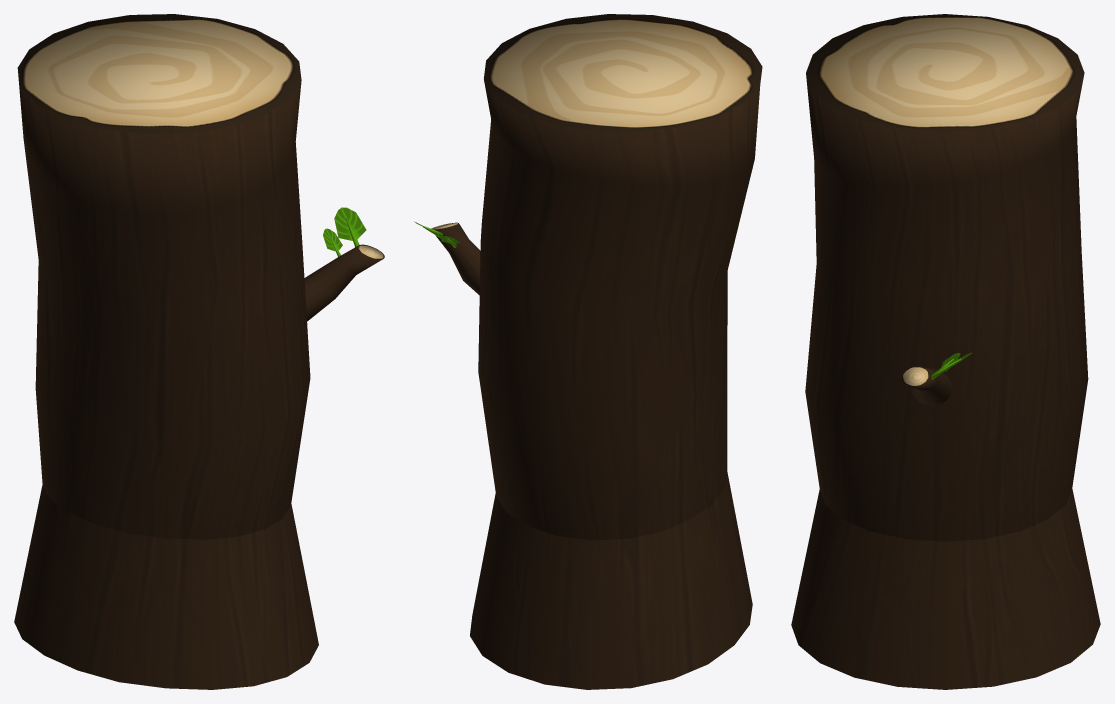
Rendered from log.fbx.
The picture shows the model from 3 angles, left to right: view 1: azimuth 30°, elevation 25°; view 2: azimuth 150°, elevation 25°; view 3: azimuth 270°, elevation 25°; orthographic projection. The views are drawn at different scales.
Visible parts, largest first — view 1: LogTop, LogBottom; view 2: LogTop, LogBottom; view 3: LogTop, LogBottom.
Boxes of the visible parts, x1=… form: LogTop: x1=17, y1=14, x2=384, y2=539; LogBottom: x1=14, y1=485, x2=318, y2=689; LogTop: x1=414, y1=14, x2=762, y2=540; LogBottom: x1=470, y1=471, x2=752, y2=689; LogTop: x1=805, y1=14, x2=1088, y2=541; LogBottom: x1=791, y1=489, x2=1100, y2=689.
Size of the model in its own units: 134 by 219 by 111.
